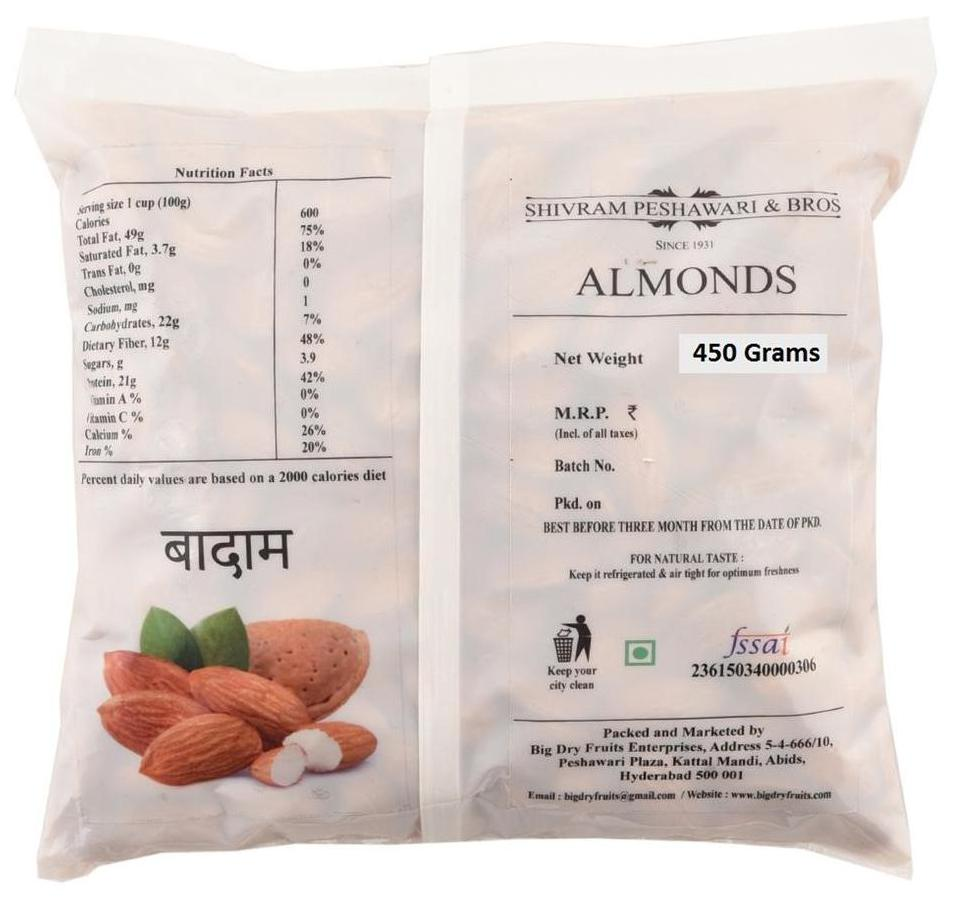fssai: (722, 625, 790, 658)
